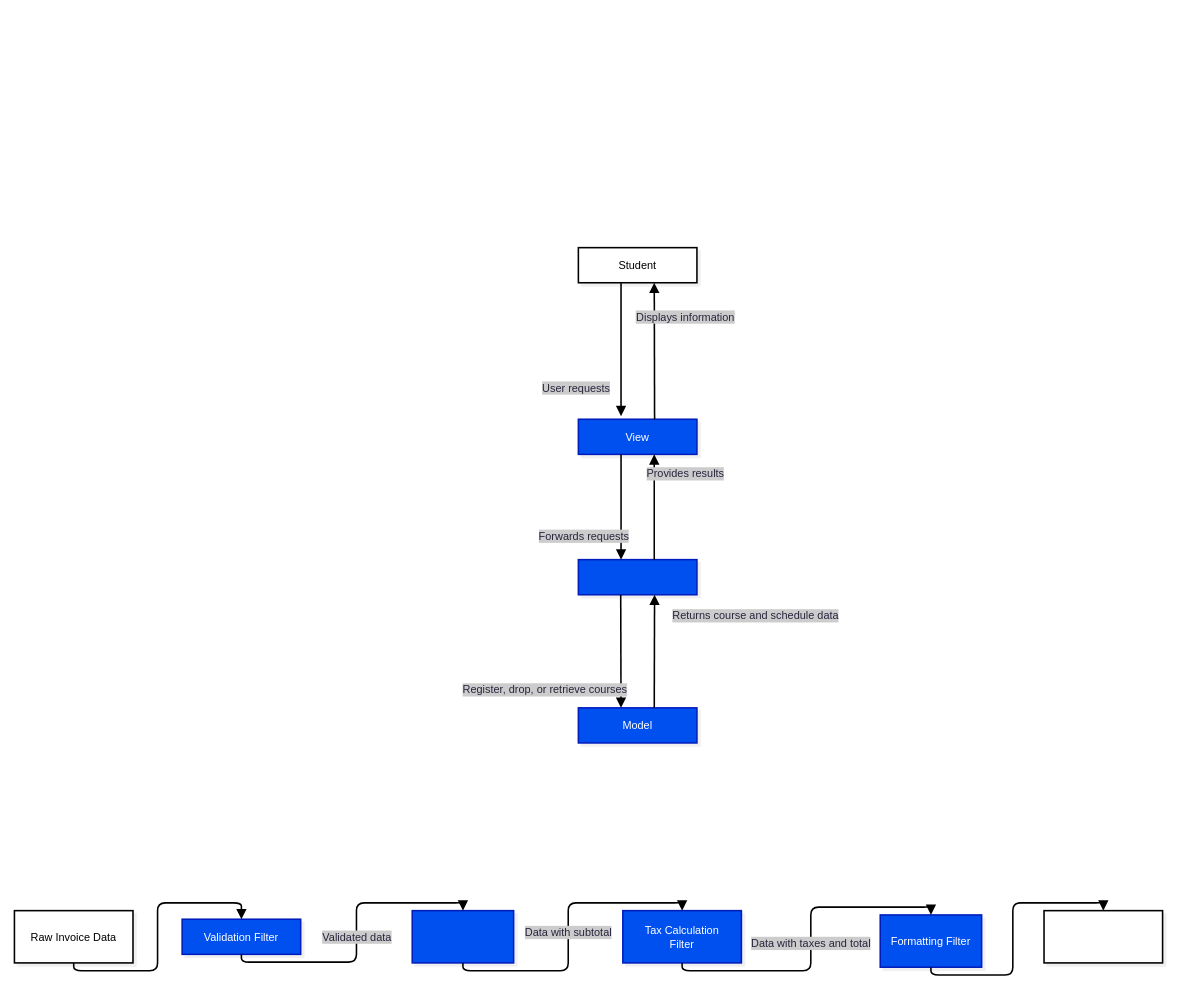
Image size: 1179x997. Some labels were removed from this diagram. Each missing label, with the centre of its shape:
Controller: [638,578]
Formatted Invoice: [1104,937]
Subtotal Calculation Filter: [464,937]
